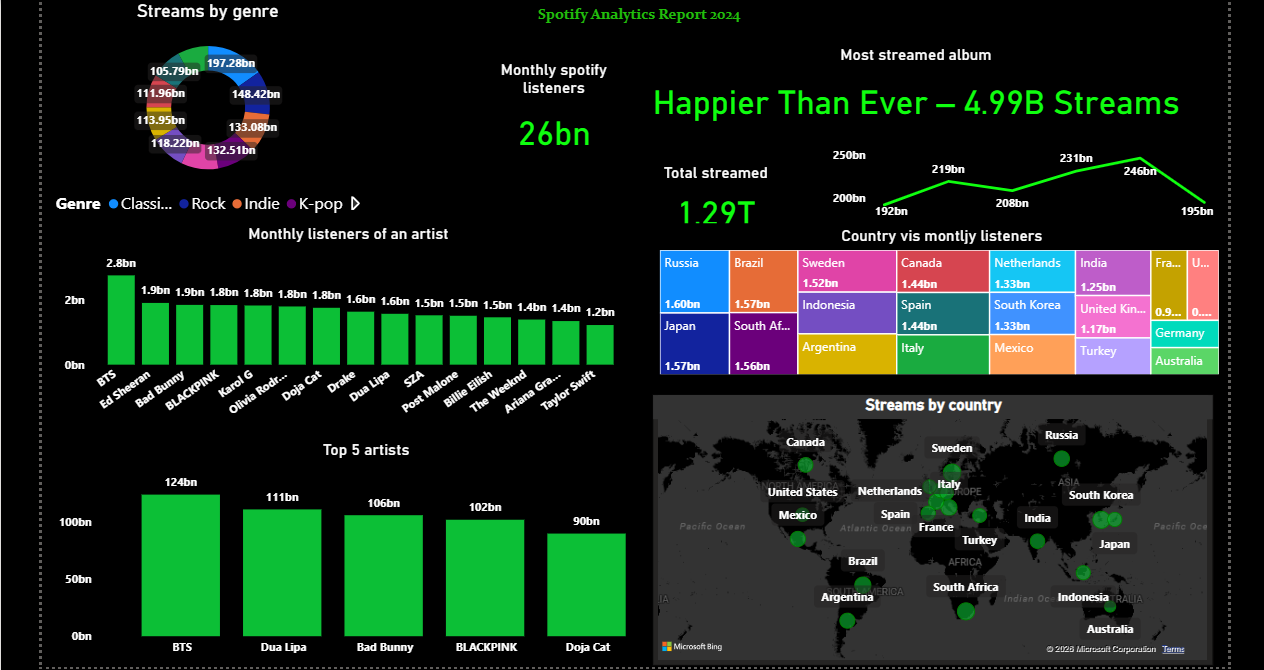

Layout of this report page (visuals, bound fields, positions):
{"tool":"powerbi","page":{"name":"Page 1","canvas":[1280,720],"ordinal":0},"visuals":[{"type":"textbox","box":[9.4,0,1269.9,54.8],"z":0},{"type":"clusteredColumnChart","title":"Top 5 artists","fields":{"Category":["Spotify_2024_Global_Streaming_Data.Artist"],"Y":["Spotify_2024_Global_Streaming_Data.Total streamed"]},"box":[10,472,675.2,247],"z":1000},{"type":"map","title":"Streams by country","fields":{"Category":["Spotify_2024_Global_Streaming_Data.Country"],"Size":["Spotify_2024_Global_Streaming_Data.Total streamed"]},"box":[659.3,426.2,605.5,292.8],"z":2000},{"type":"donutChart","title":"Streams by genre","fields":{"Category":["Spotify_2024_Global_Streaming_Data.Genre"],"Y":["Spotify_2024_Global_Streaming_Data.Total streamed"]},"box":[10,0,338.6,241],"z":3000},{"type":"card","title":"Total streamed","fields":{"Values":["Spotify_2024_Global_Streaming_Data.Total streamed"]},"box":[624,176,208,80],"z":4000},{"type":"columnChart","title":"Monthly listeners of an artist","fields":{"Category":["Spotify_2024_Global_Streaming_Data.Artist"],"Y":["Spotify_2024_Global_Streaming_Data.Montly listeners"]},"box":[16,240,624,224],"z":5000},{"type":"card","title":"Monthly spotify listeners","fields":{"Values":["Spotify_2024_Global_Streaming_Data.Montly listeners"]},"box":[464,64,176,112],"z":6000},{"type":"lineChart","title":"Total stream over time","fields":{"Y":["Spotify_2024_Global_Streaming_Data.Total streamed"],"Category":["Spotify_2024_Global_Streaming_Data.Release Year"]},"box":[845.2,119.8,427.5,121.4],"z":7000},{"type":"treemap","title":"Country vis montljy listeners","fields":{"Group":["Spotify_2024_Global_Streaming_Data.Country"],"Values":["Spotify_2024_Global_Streaming_Data.Montly listeners"]},"box":[659.3,241,619.4,171.3],"z":8000},{"type":"card","title":"Most streamed album","fields":{"Values":["Spotify_2024_Global_Streaming_Data.Top Album & Streams"]},"box":[640,48,608,96],"z":9000}]}

Visuals, with their boxes on the page's 1280x720 design canvas (x1, y1, x2, y2). These are canvas units, not pixel positions in the 1264x670 screenshot, which may show the page scaled, cropped or inside an application window:
textbox: crop(9, 0, 1279, 55)
"Top 5 artists" clusteredColumnChart: crop(10, 472, 685, 719)
"Streams by country" map: crop(659, 426, 1265, 719)
"Streams by genre" donutChart: crop(10, 0, 349, 241)
"Total streamed" card: crop(624, 176, 832, 256)
"Monthly listeners of an artist" columnChart: crop(16, 240, 640, 464)
"Monthly spotify listeners" card: crop(464, 64, 640, 176)
"Total stream over time" lineChart: crop(845, 120, 1273, 241)
"Country vis montljy listeners" treemap: crop(659, 241, 1279, 412)
"Most streamed album" card: crop(640, 48, 1248, 144)
